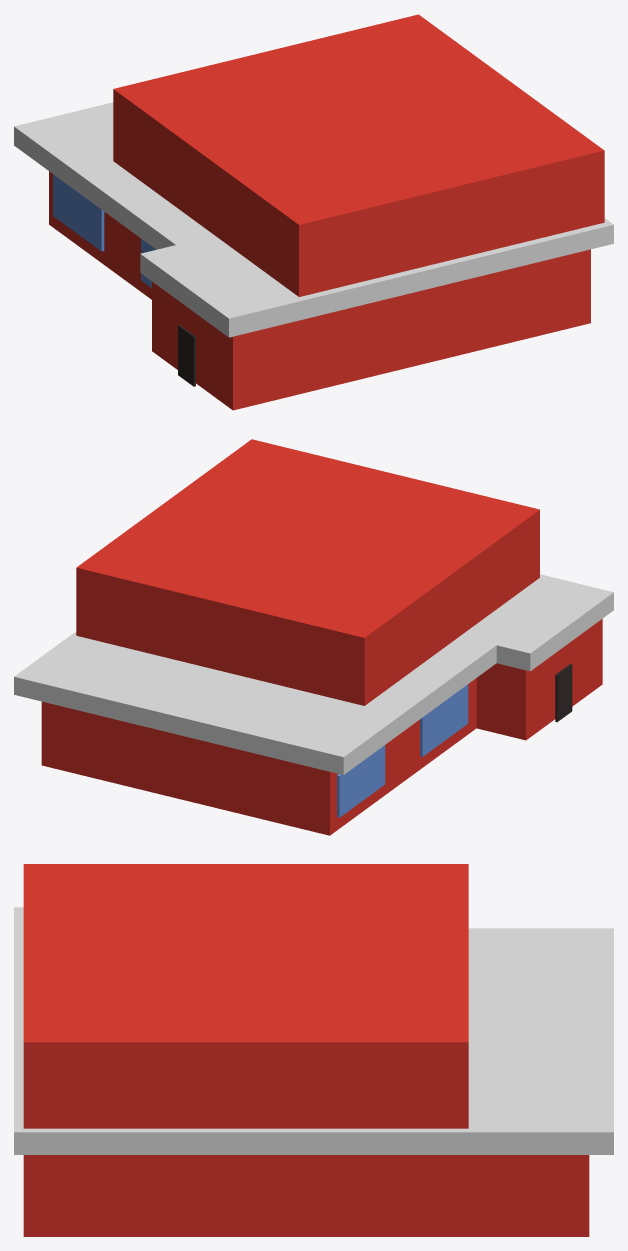
Rendered from Casa_Roja.fbx.
The picture shows the model from 3 angles, top to bottom: view 1: azimuth 30°, elevation 25°; view 2: azimuth 150°, elevation 25°; view 3: azimuth 270°, elevation 25°; orthographic projection. The views are drawn at different scales.
Parts seen in each view (by area): view 1: Cube.009, Cube.005, Cube.007, Window_1.004, Door_1.002; view 2: Cube.009, Cube.007, Cube.005, Window_1.004, Window_1.003, Door_1.002; view 3: Cube.009, Cube.007, Cube.005.
Boxes of the visible parts, x1,y1,x2,y2 form: Cube.009: (113, 14, 604, 296); Cube.005: (49, 171, 590, 410); Cube.007: (14, 102, 613, 337); Window_1.004: (53, 174, 104, 251); Door_1.002: (178, 325, 195, 386); Cube.009: (76, 439, 539, 705); Cube.007: (14, 574, 613, 774); Cube.005: (41, 619, 602, 835); Window_1.004: (337, 745, 385, 817); Window_1.003: (420, 684, 468, 756); Door_1.002: (555, 664, 572, 722); Cube.009: (23, 864, 468, 1128); Cube.007: (14, 907, 613, 1154); Cube.005: (23, 1155, 589, 1236).
Size of the model in its own units: 5085 by 5734 by 2156.
